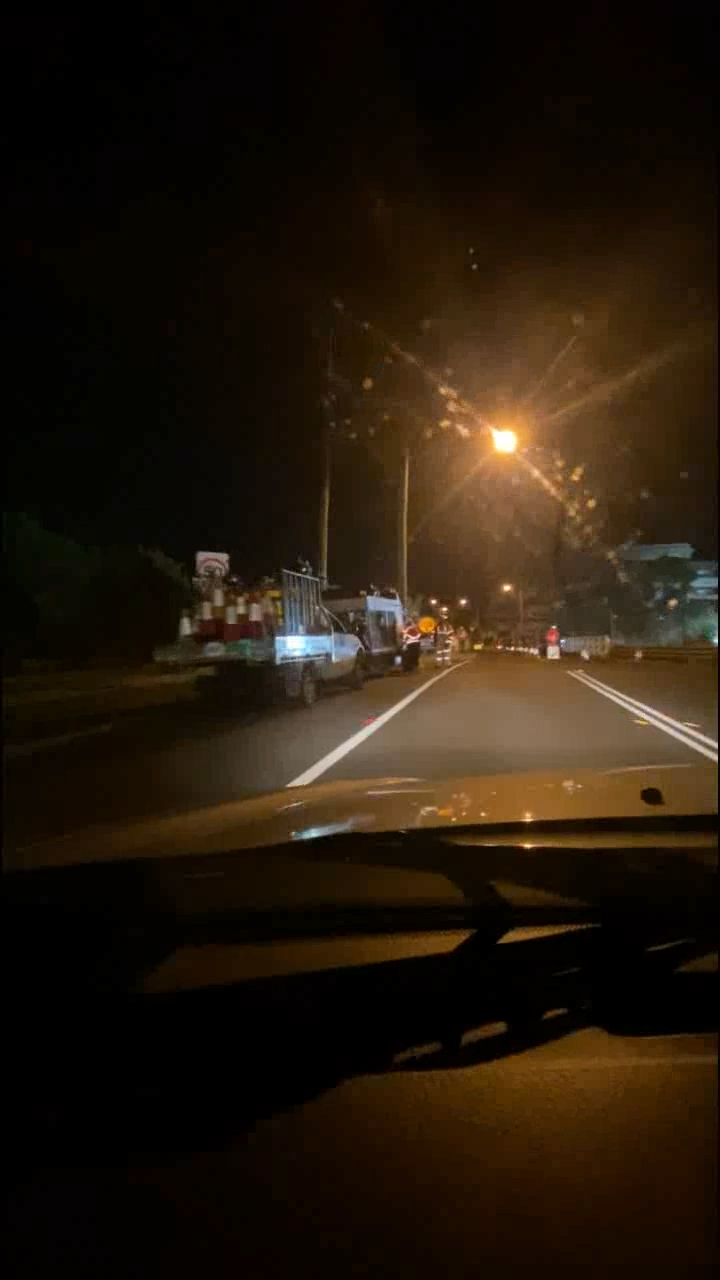car: (177, 563, 372, 700)
person: (430, 608, 452, 659), (396, 609, 418, 660)
